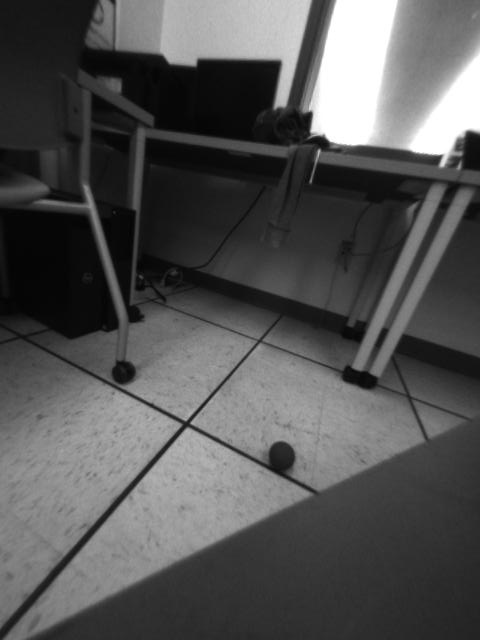dogtoy: (256, 432, 306, 477)
